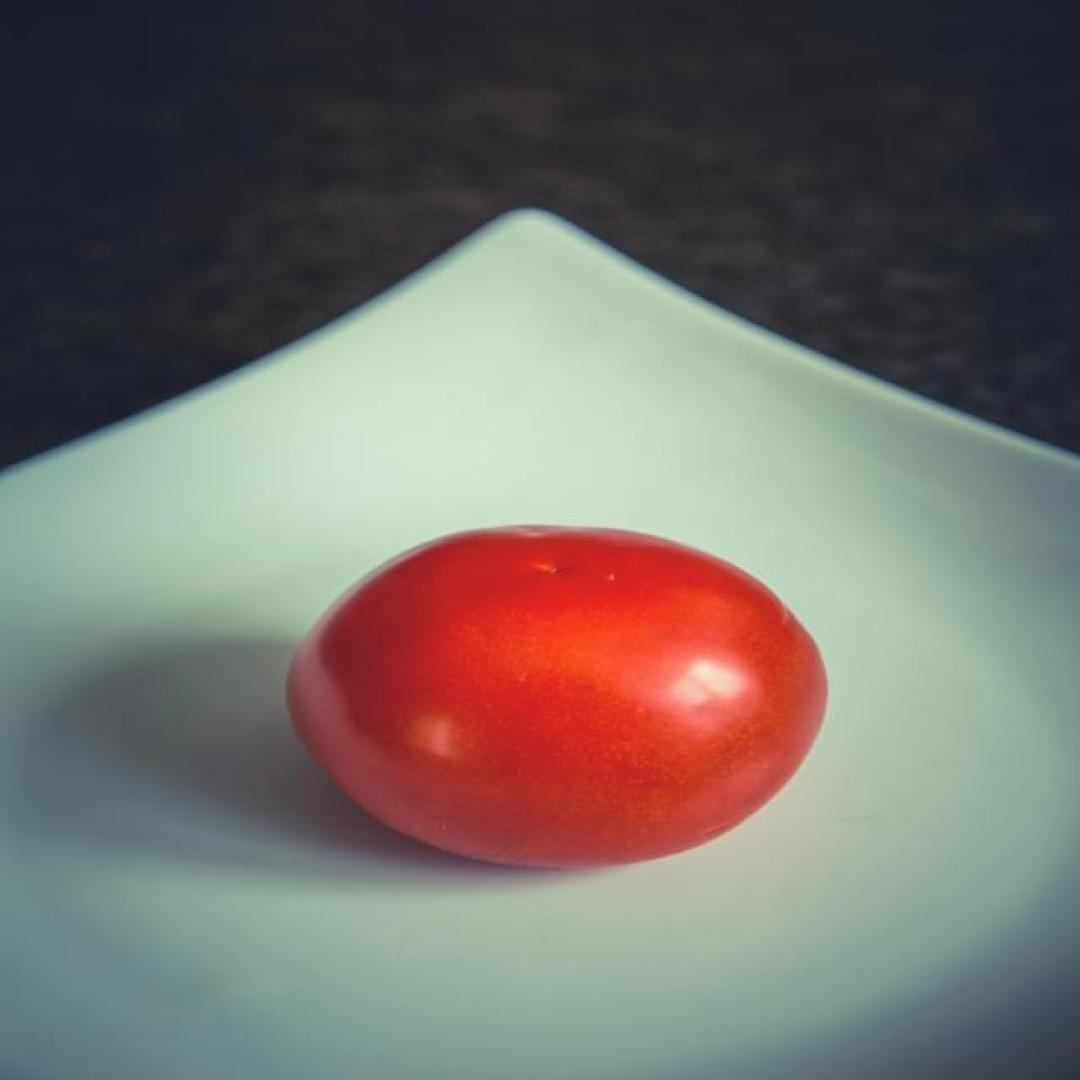matang: (286, 523, 834, 871)
